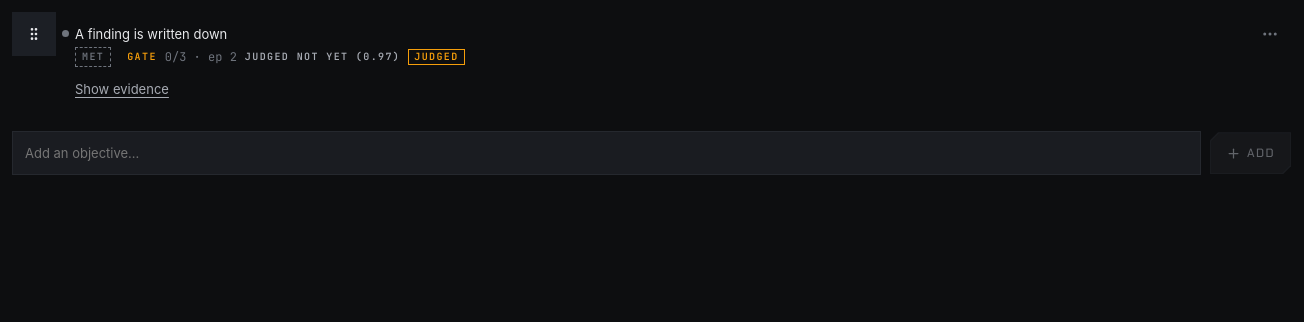
Test case: a NEGATIVE verdict above the threshold says 'judged not met', not 'below your 0.90'
Click the button with test id "objective-evidence-toggle" at (122, 89), box [75,67,169,111]
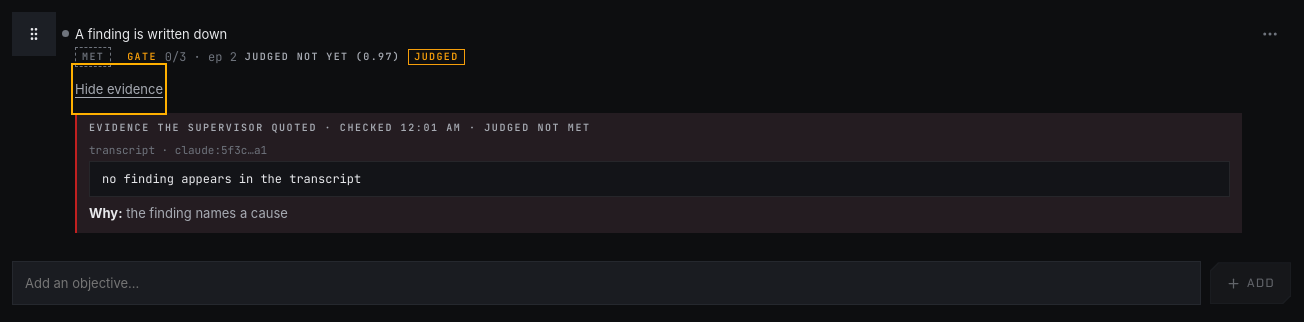
Expected: the element with test id "objective-evidence" does not show "below your", [75,113,1242,233]
Result: the element with test id "objective-evidence" shows "judged not met" at [461,121,591,134]
